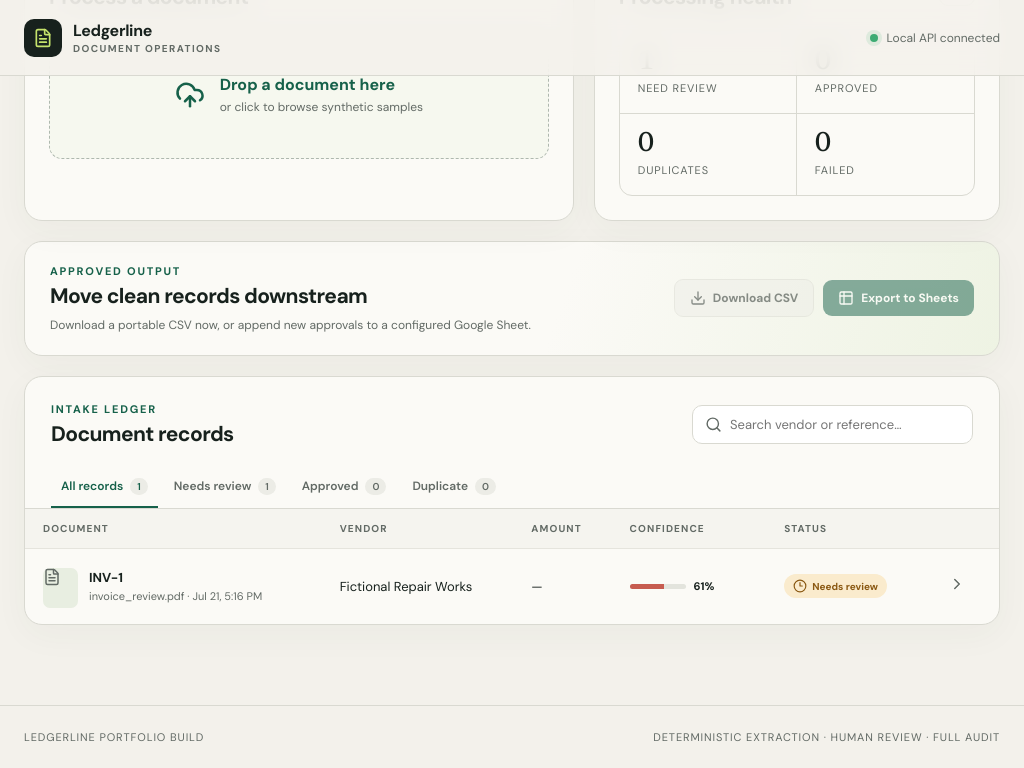
Test: review dashboard › shows records, confidence, and opens review details
This screenshot has width=1024, height=768.
(page scrolled)
Expected: the text "61%" is shown, [694,579,714,593]
Click the text "Fictional Repair Works".
click(418, 586)  # box [322,548,513,624]
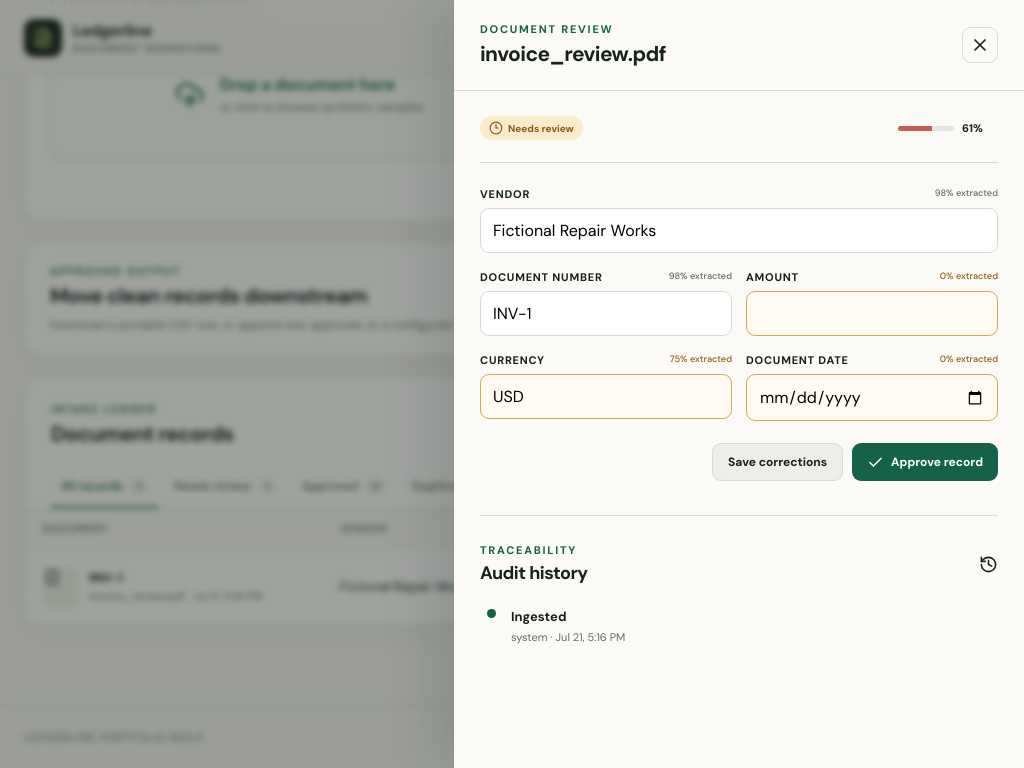
Expected: the element labelled "Document review" is shown, [454,0,1023,767]
Expected: the field showing "INV-1" is shown, [480,291,732,336]
Expected: the text "ingested" is shown, [511,608,566,625]
